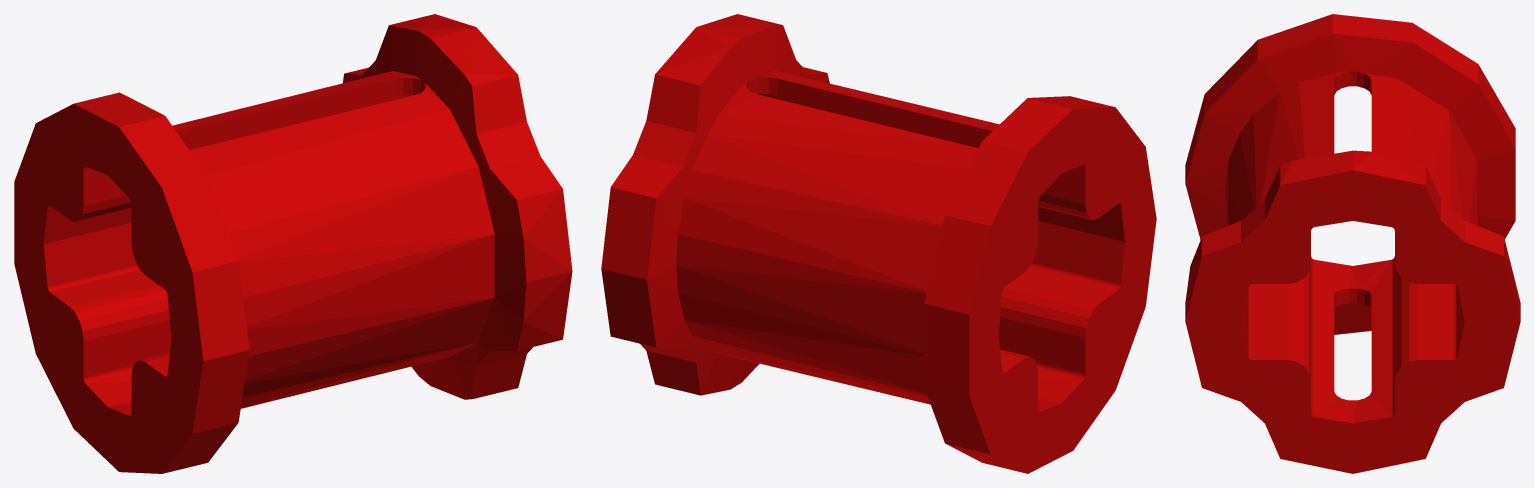
File: Red_4227155_JCA.fbx
3 views of the same model, side by side, from view 1: azimuth 30°, elevation 25°; view 2: azimuth 150°, elevation 25°; view 3: azimuth 270°, elevation 25° (orthographic). The views are drawn at different scales.
Visible parts, largest first — view 1: Red_4227155_JCA; view 2: Red_4227155_JCA; view 3: Red_4227155_JCA.
Boxes of the visible parts, x1,y1,x2,y2 form: Red_4227155_JCA: (14,14,572,473); Red_4227155_JCA: (601,14,1156,473); Red_4227155_JCA: (1185,14,1520,473).
Bounding box in the file's own units: 0.8 × 0.72 × 0.72.
